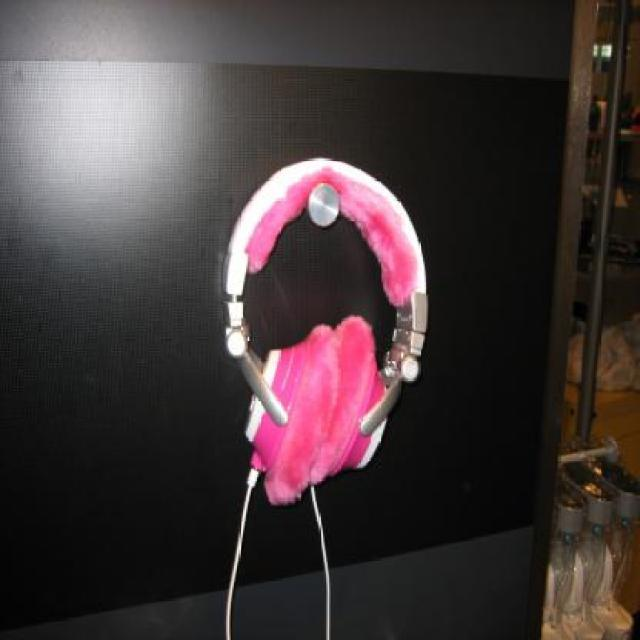earphone: (203, 132, 442, 446)
